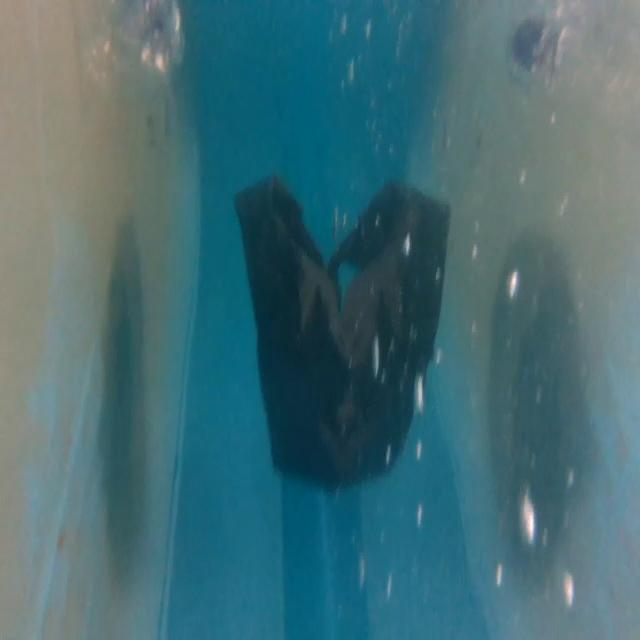plastic bags: (233, 169, 452, 497)
